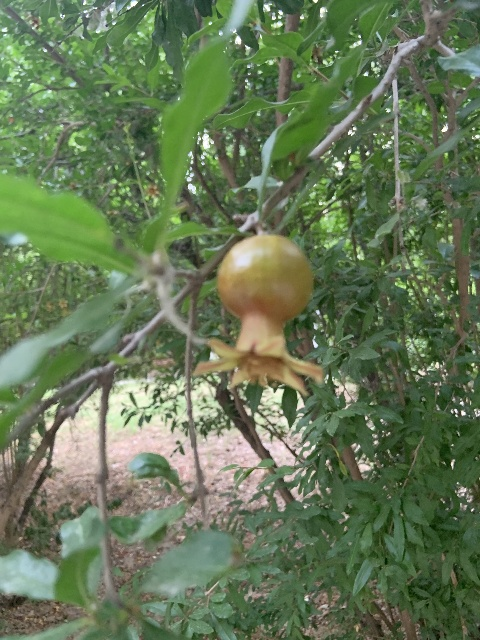early-fruit: (27, 14, 41, 28)
mid-growth: (192, 234, 323, 396)
